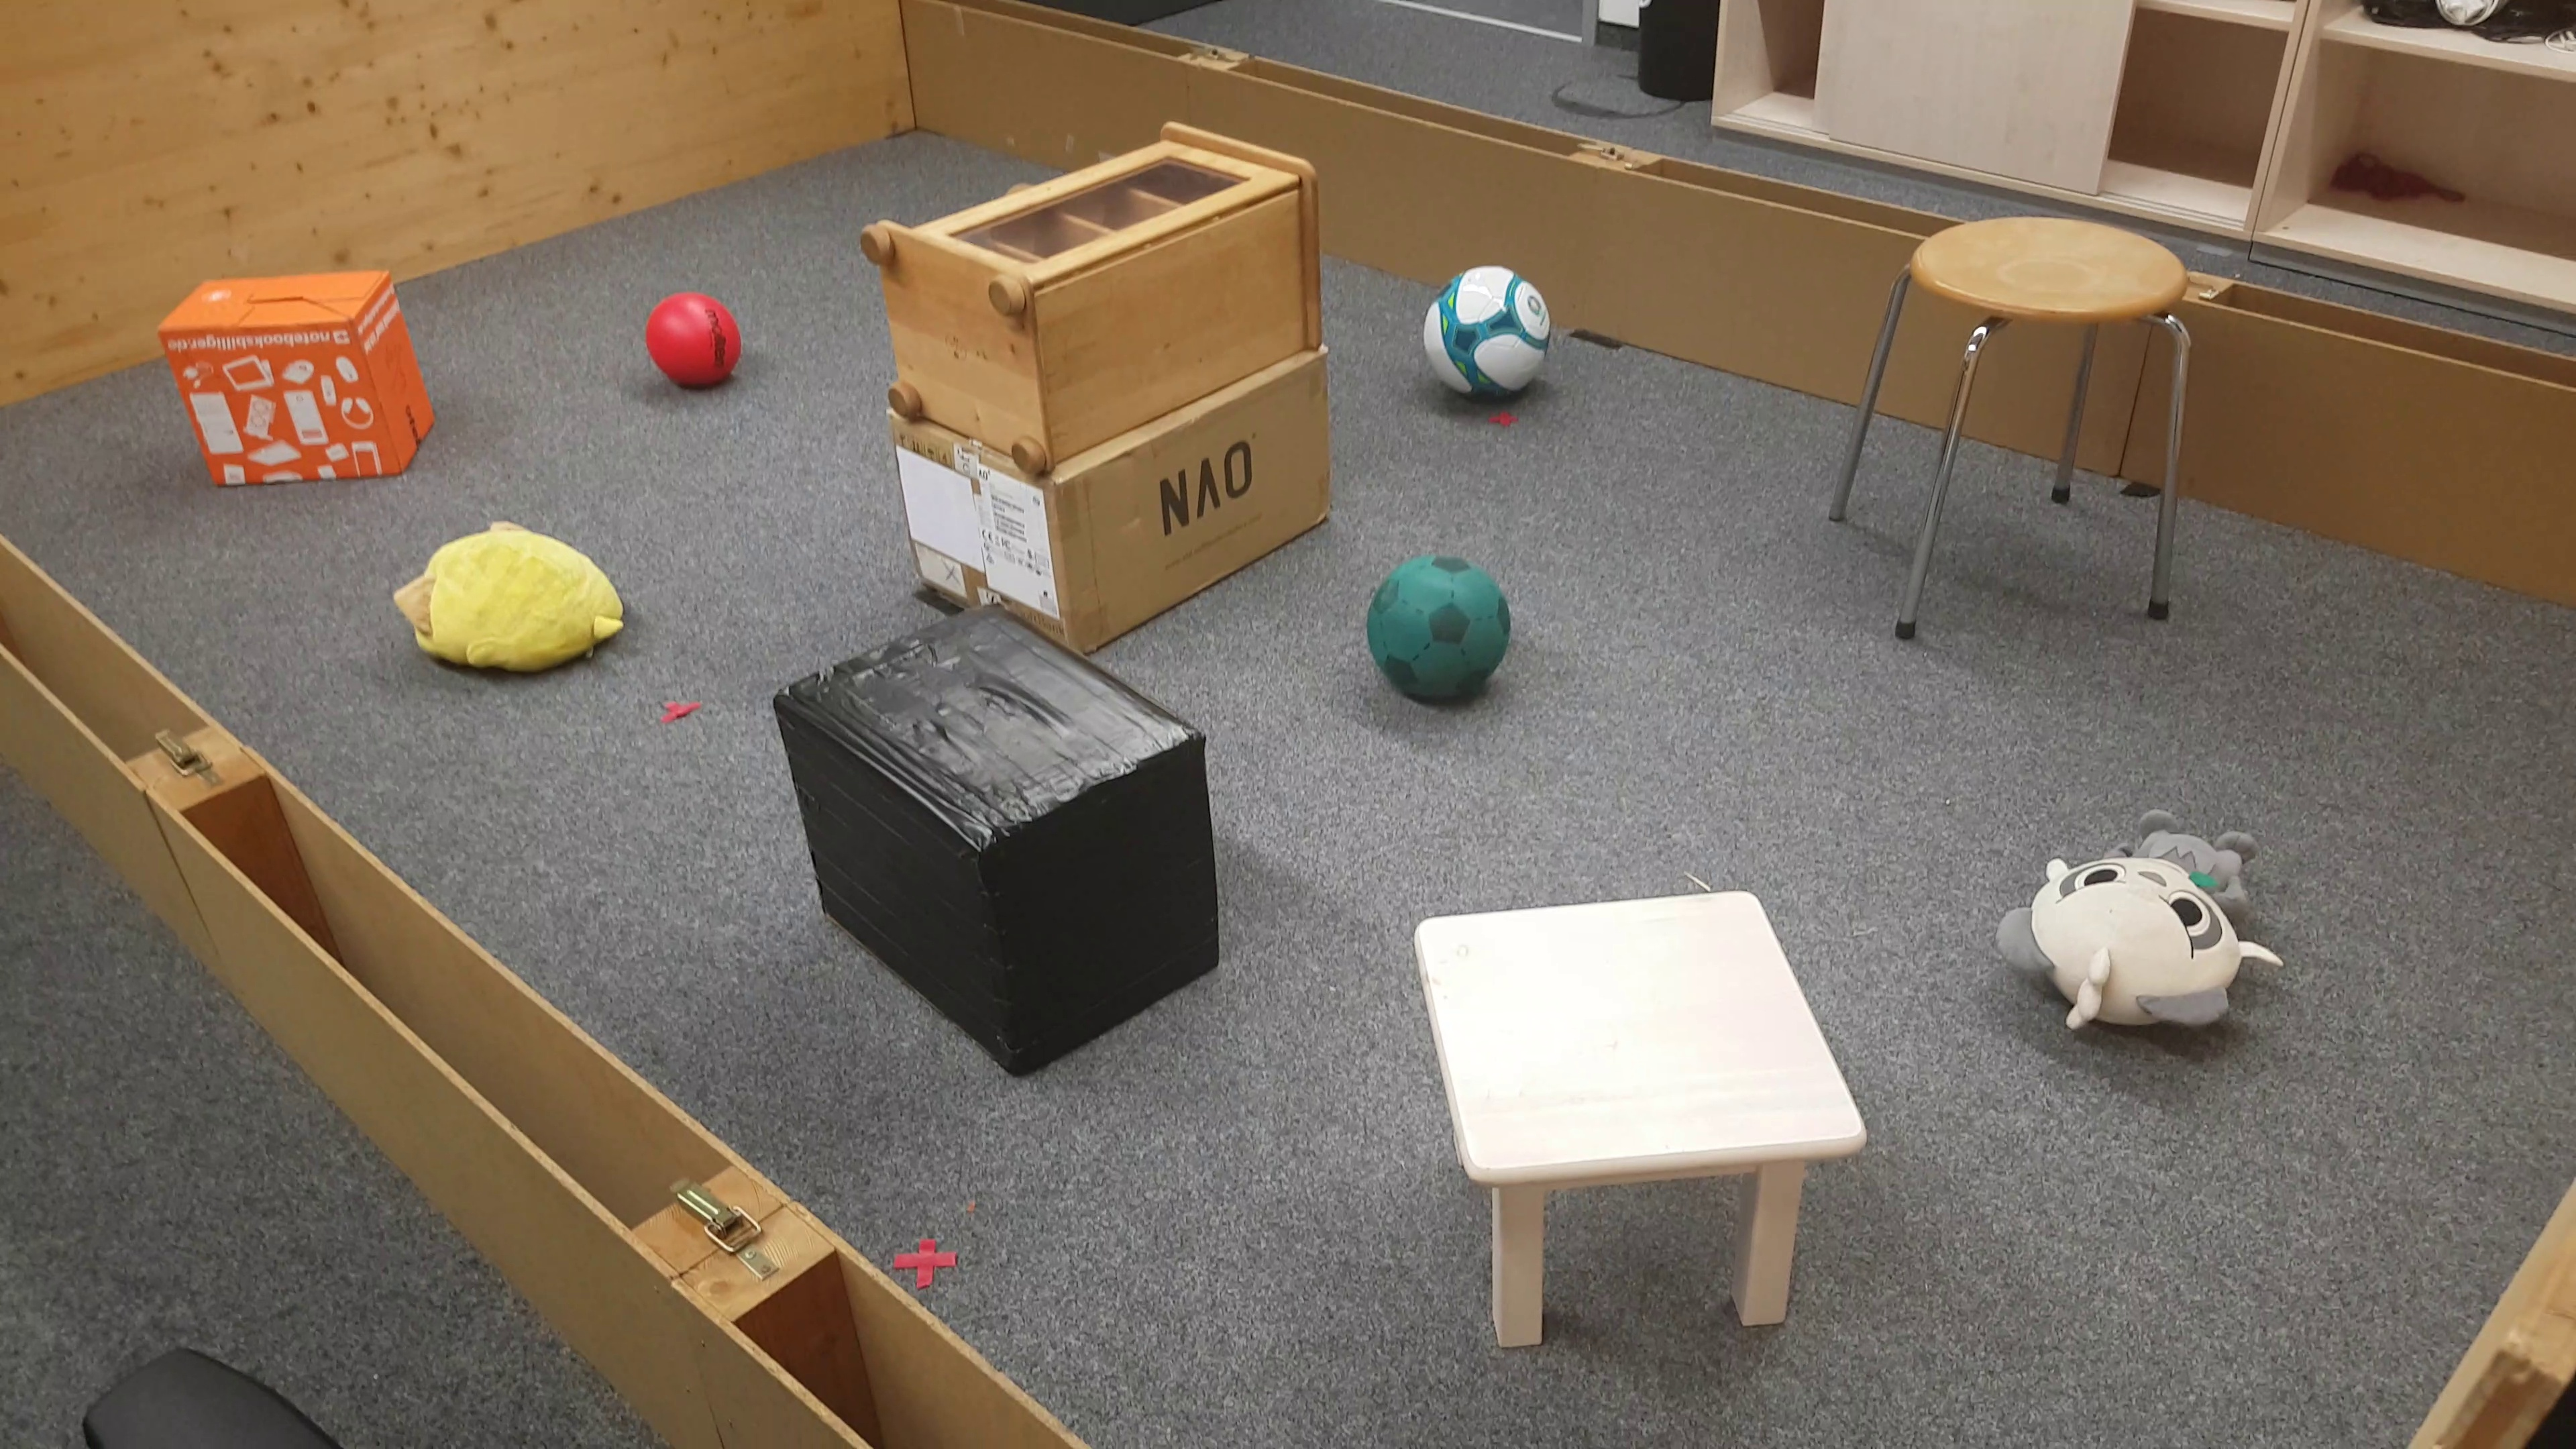grasp: (1994, 803, 2282, 1056), (395, 522, 628, 683)
kick: (1361, 556, 1513, 713), (1417, 262, 1555, 400), (649, 290, 747, 395)
push: (771, 600, 1237, 1077), (163, 272, 437, 492)
